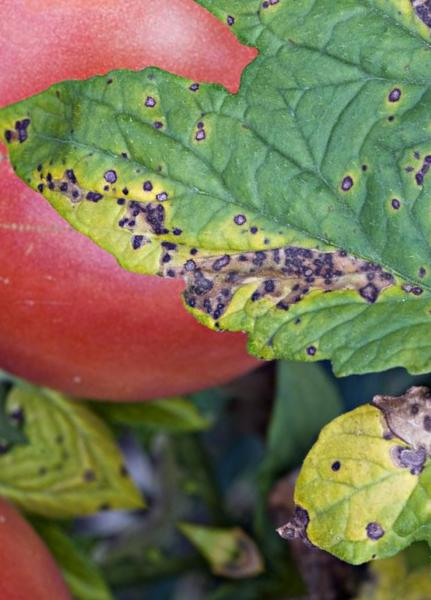Tomato Septoria leaf spot: (0, 0, 431, 469), (262, 306, 431, 600)
